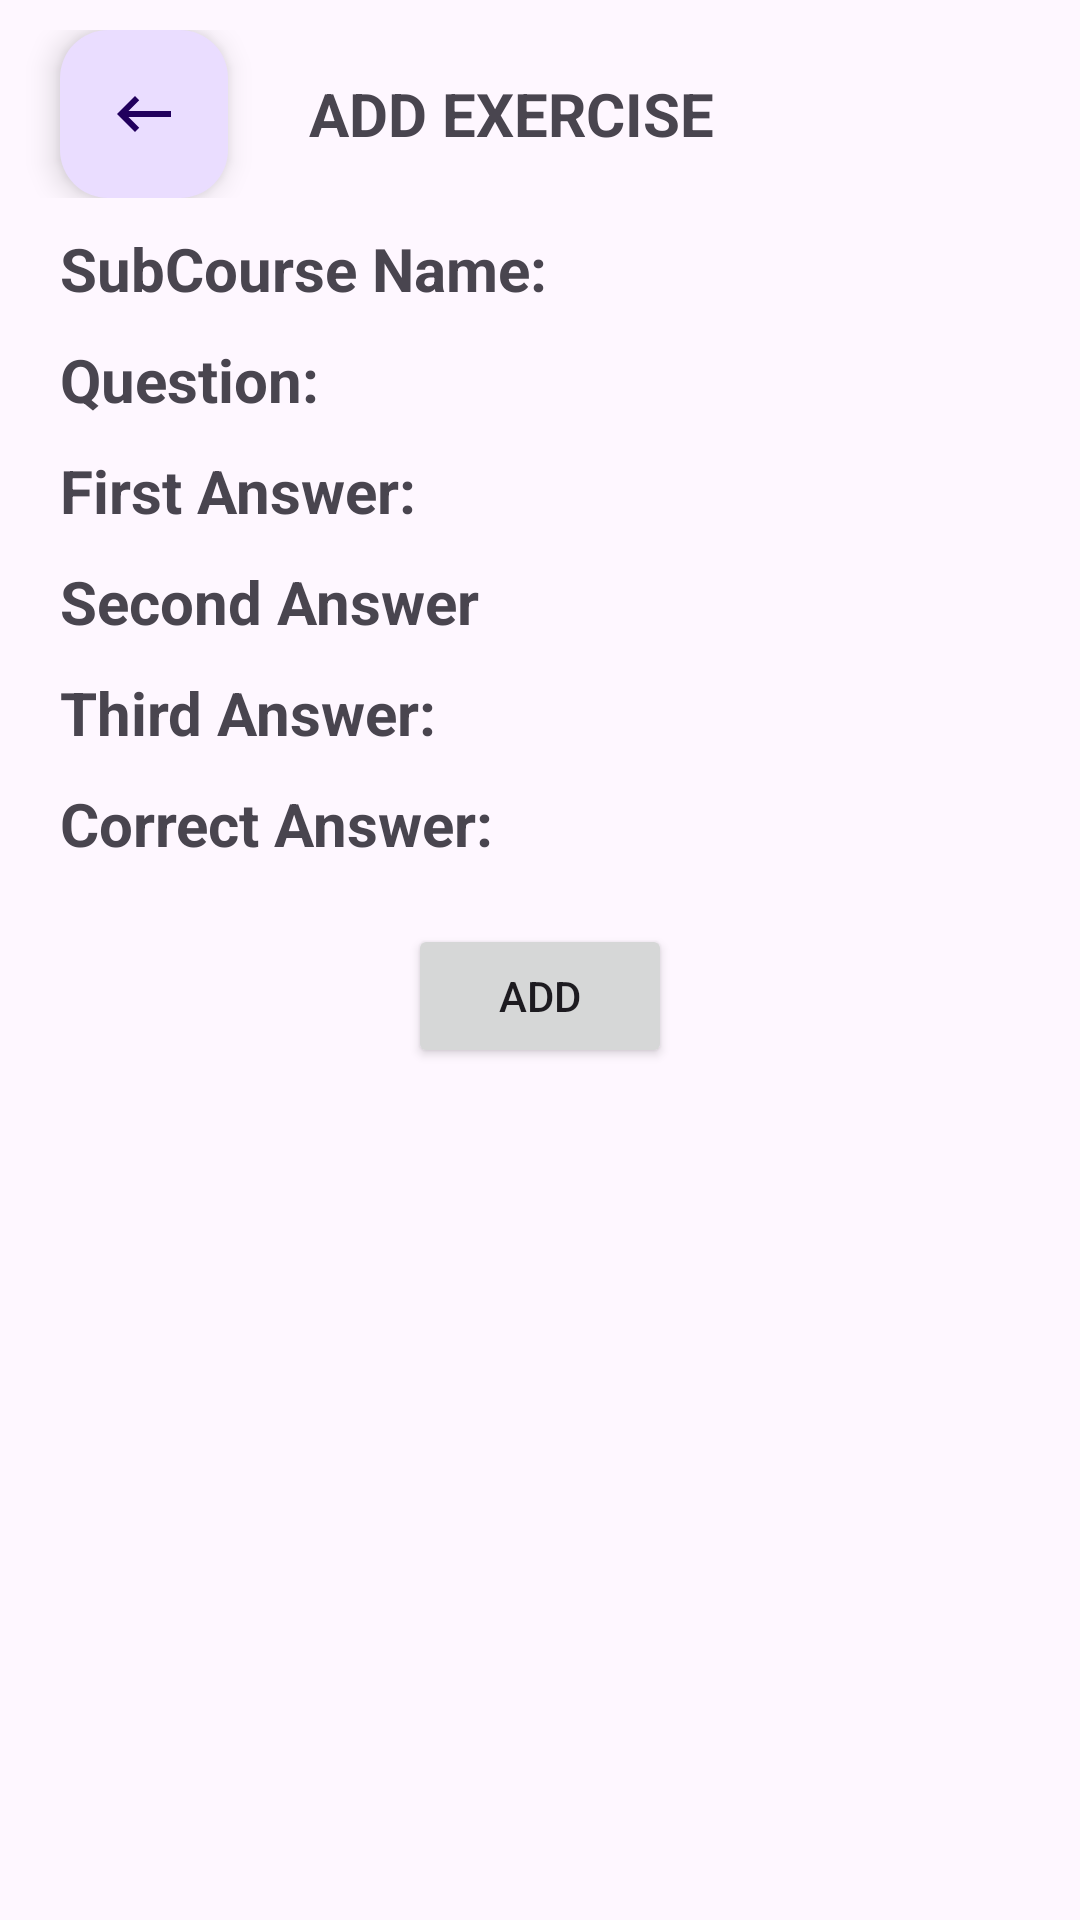

Where to tap for icons on this 1080x1920 app screen, as (x=x, y=y):
keyboard backspace: (x=144, y=114)
